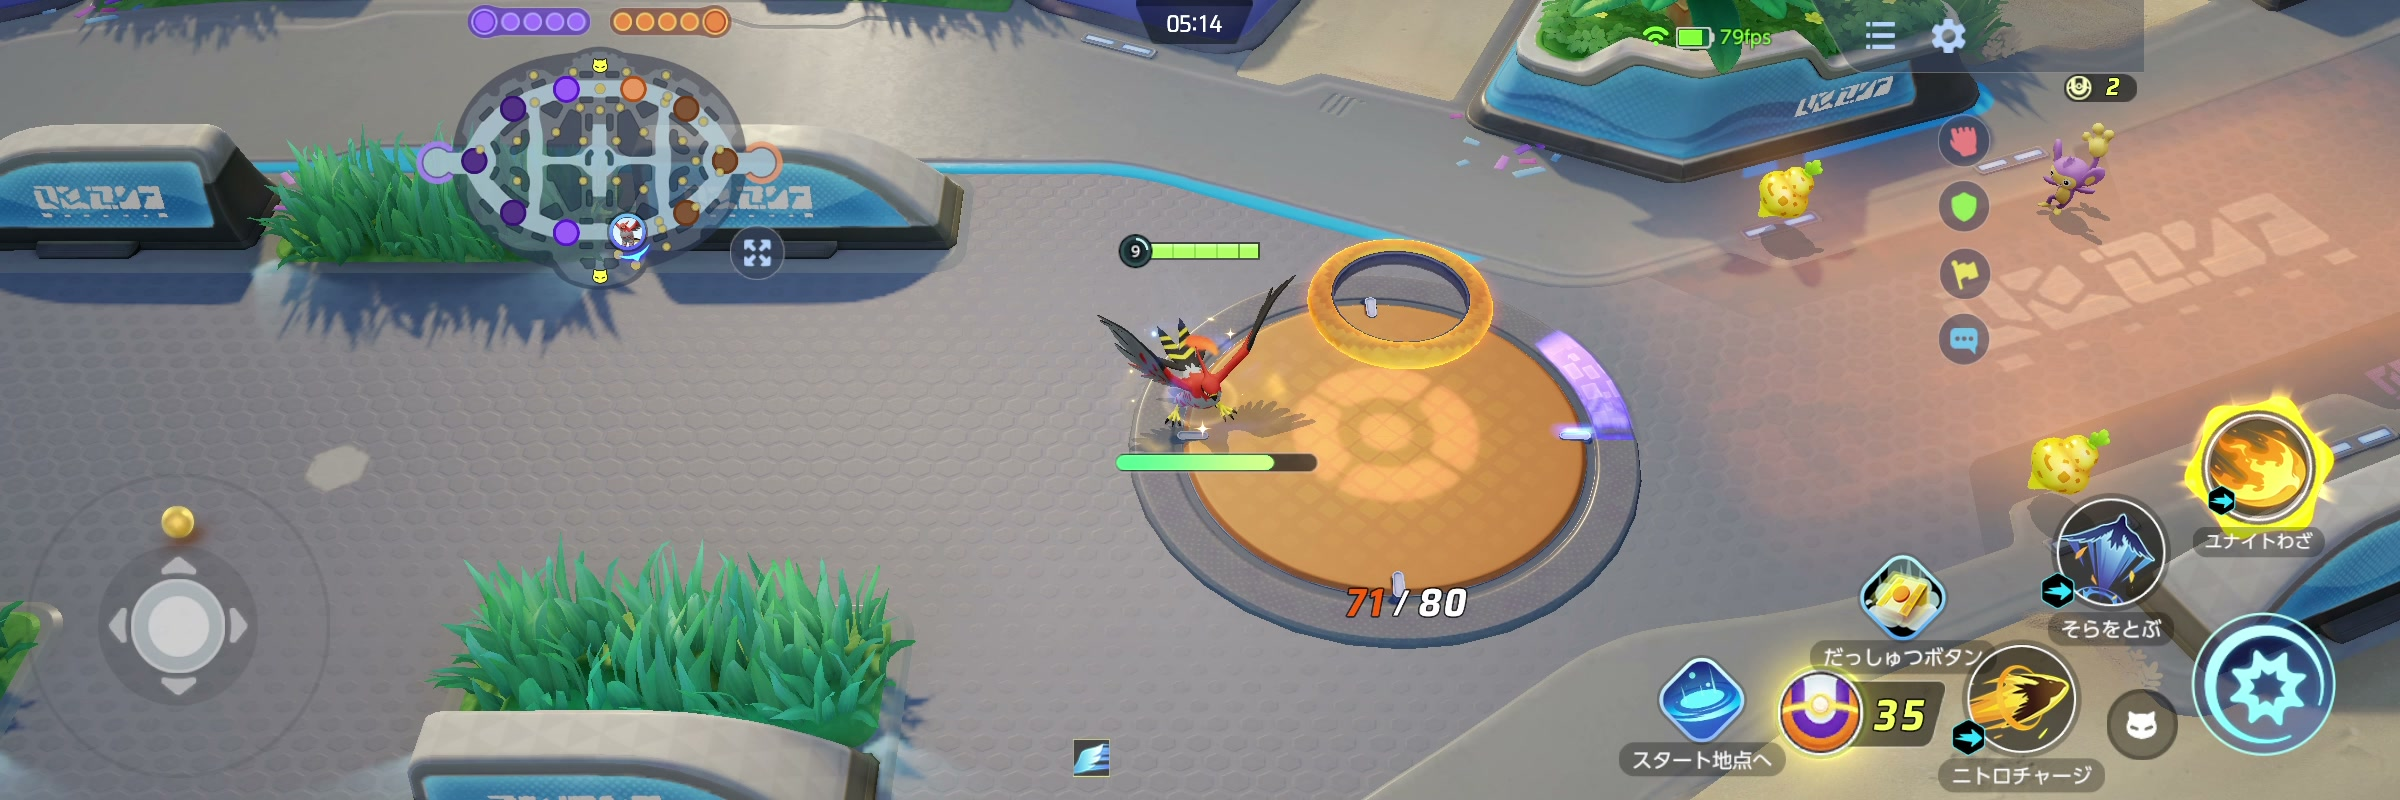talonflame: (1113, 275, 1275, 424)
